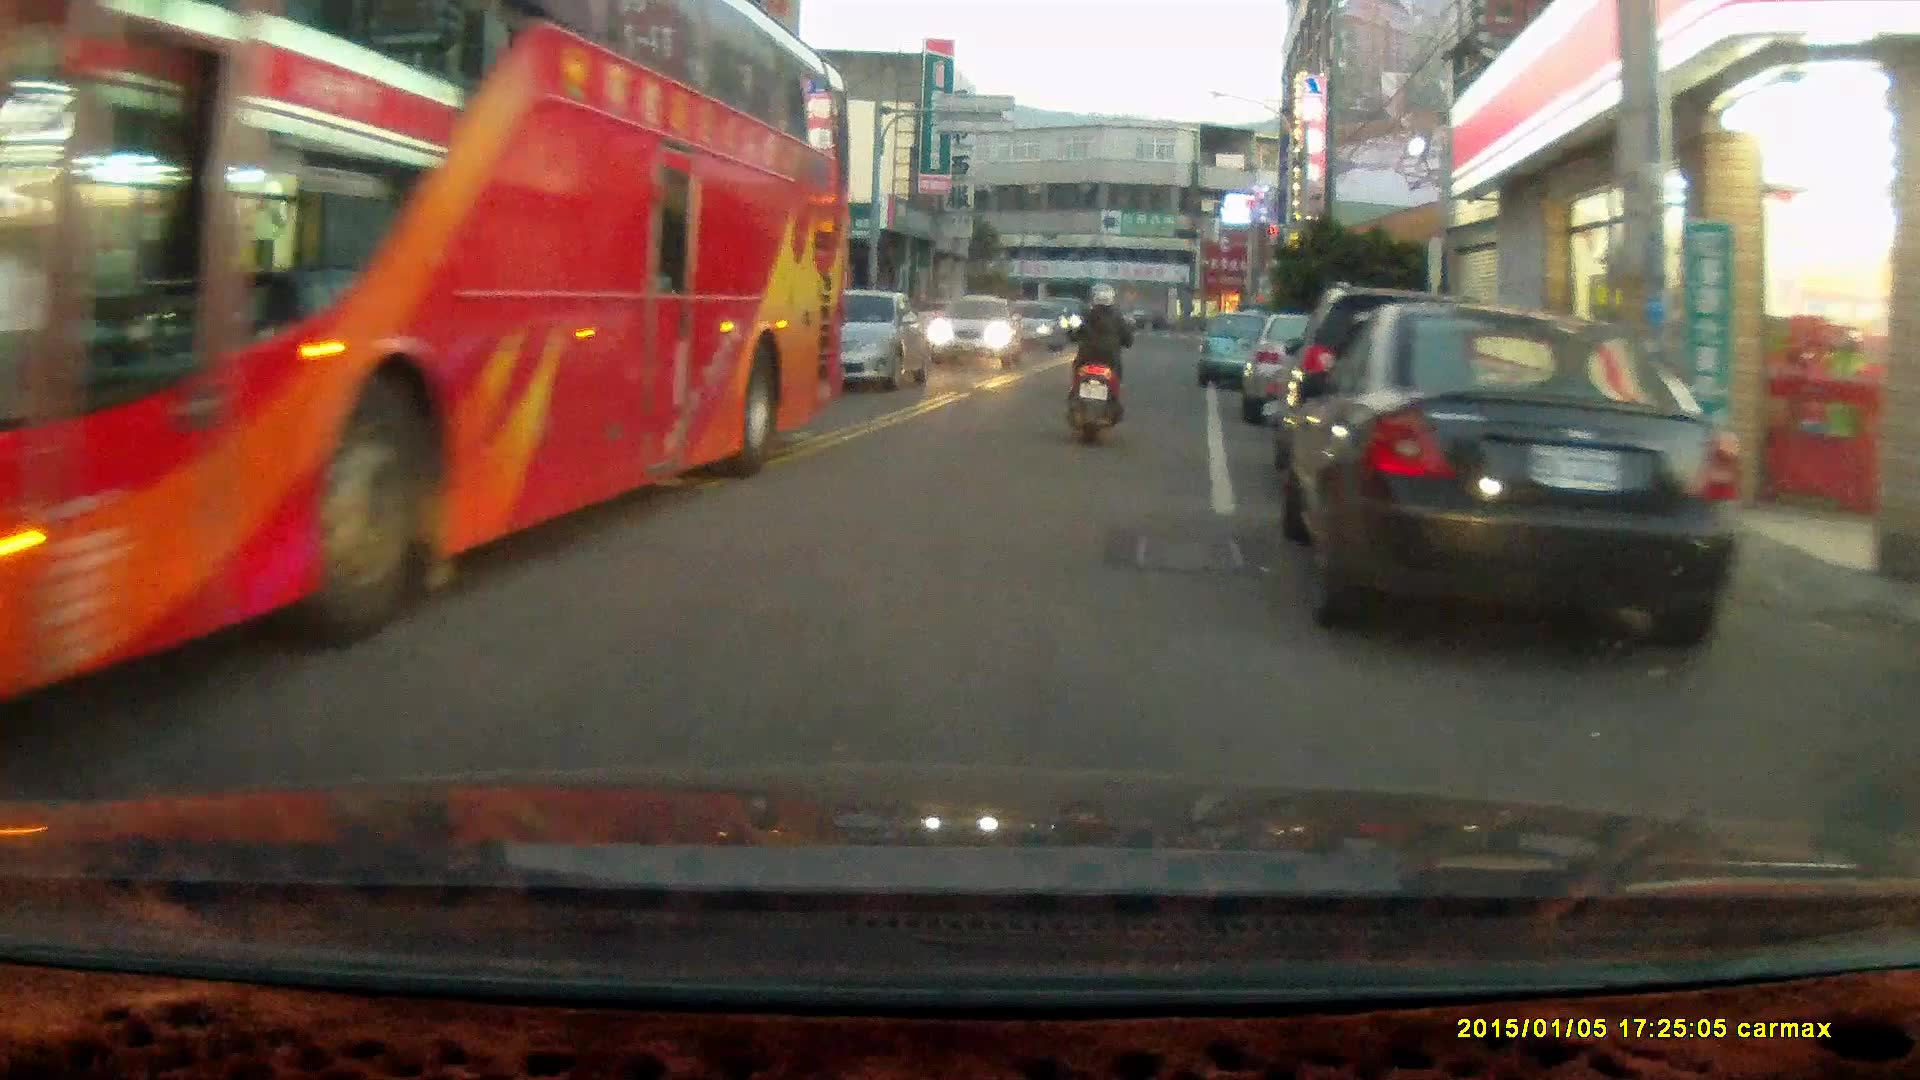rider: (1064, 283, 1133, 445)
vehicle: (1, 9, 858, 684), (1283, 303, 1762, 668), (1298, 270, 1559, 517), (1264, 304, 1450, 434), (779, 288, 927, 396), (1196, 308, 1290, 395), (929, 292, 1028, 369)
